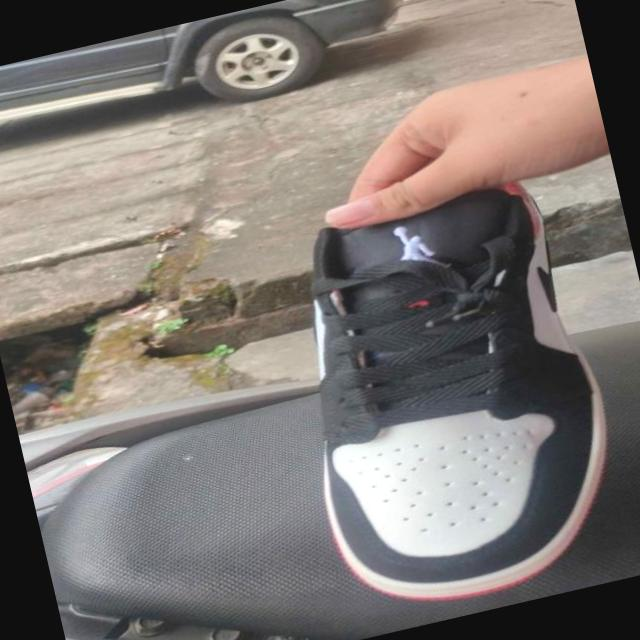nike_fake_jordan: (255, 175, 630, 624)
